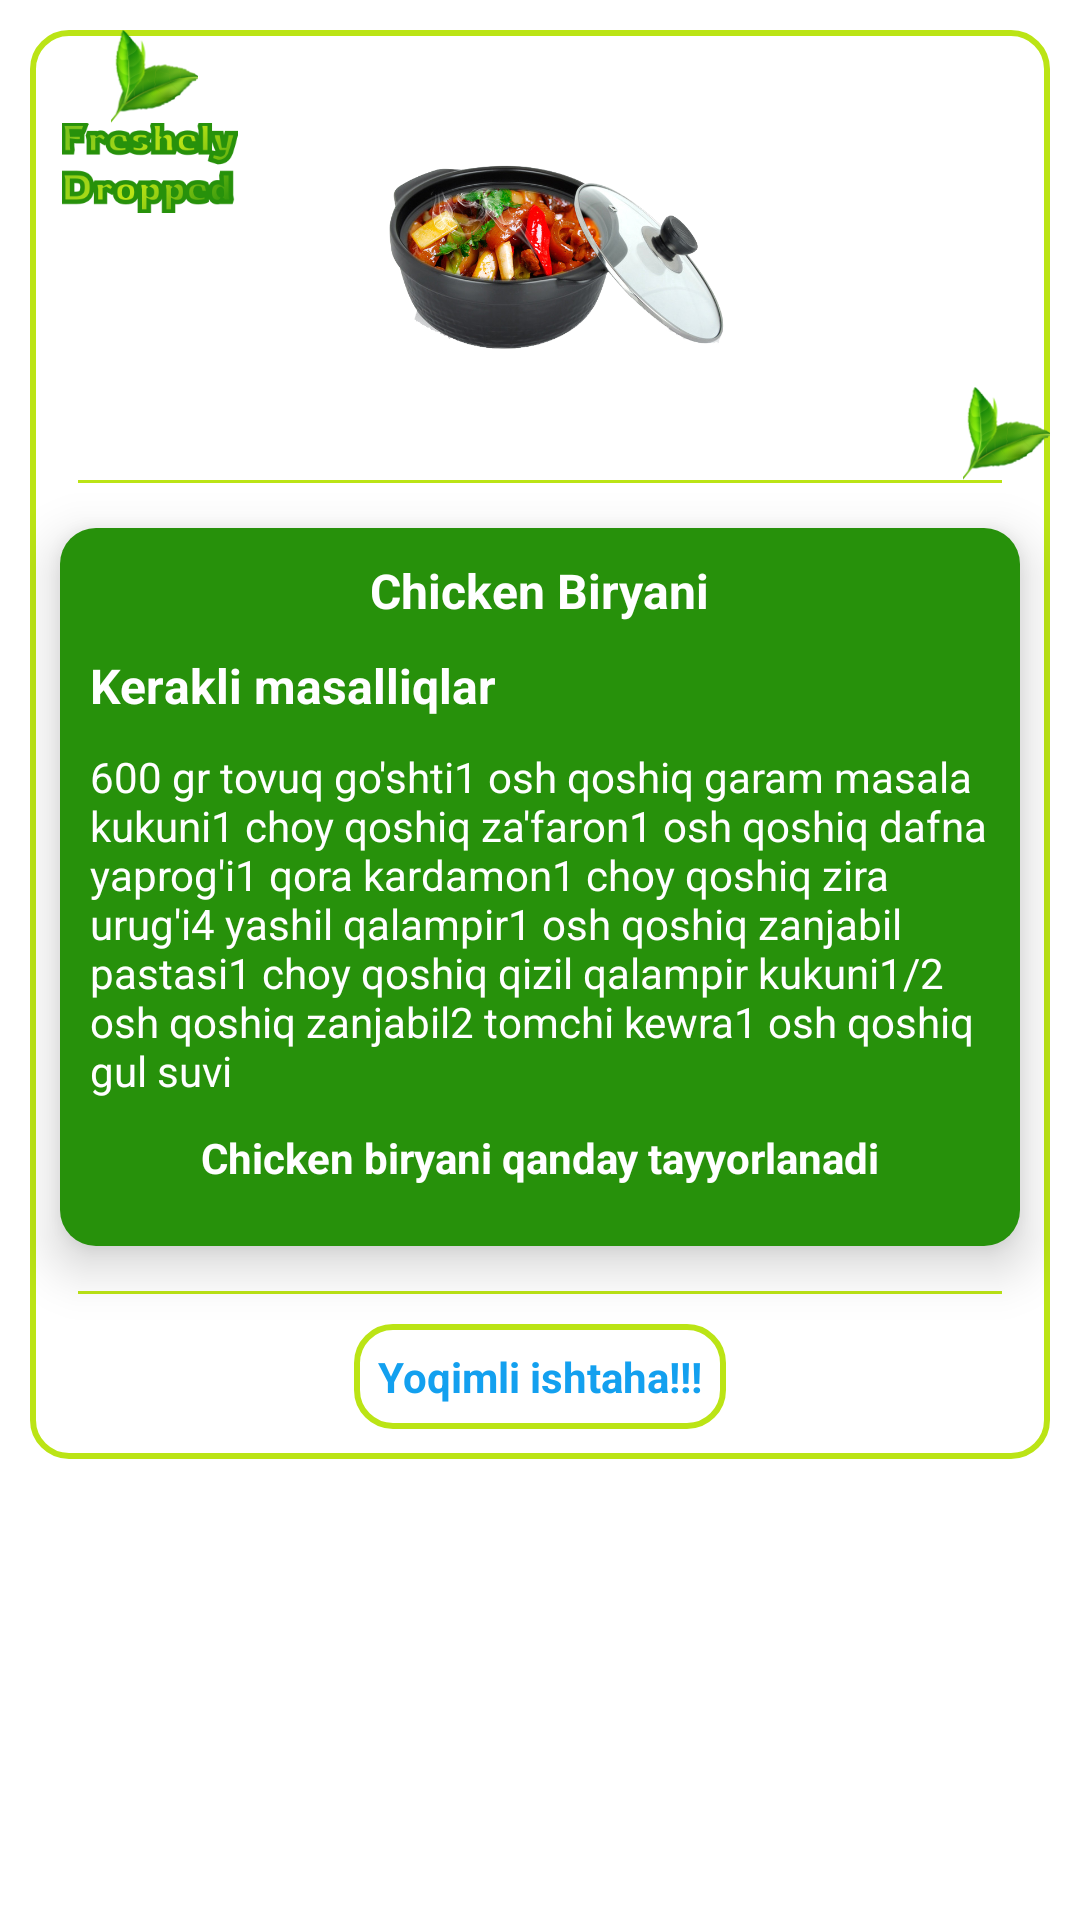

Named icons in this screenshot (1080*1920) and their bounding boxes, (x1=x1, y1=y1, x2=x2, y2=y2):
home leaf: (x1=111, y1=30, x2=198, y2=123), (x1=963, y1=387, x2=1050, y2=480)
